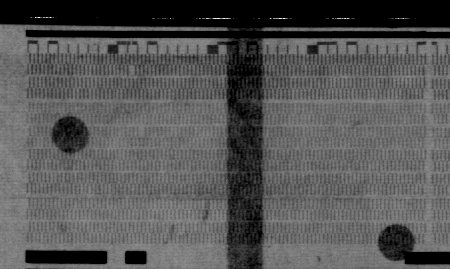Broken hole: (126, 65, 138, 77), (136, 126, 148, 138)
